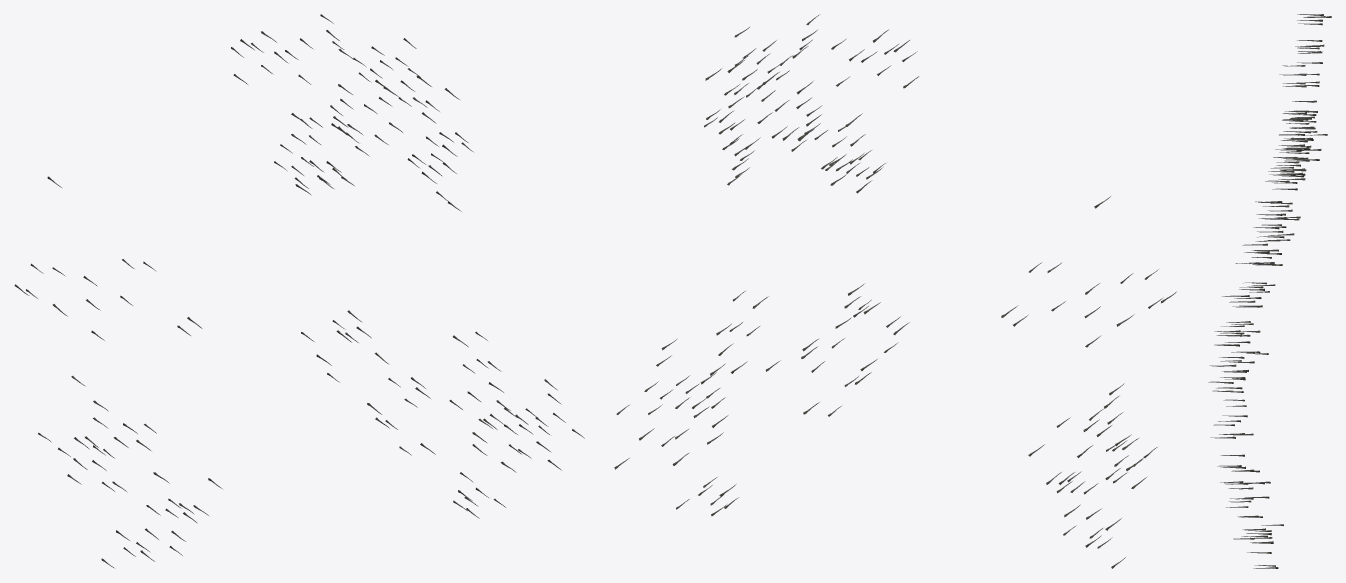
3 views of the same model, side by side, from view 1: azimuth 30°, elevation 25°; view 2: azimuth 150°, elevation 25°; view 3: azimuth 270°, elevation 25° (orthographic). The views are drawn at different scales.
Bounding box in the file's own units: 294 × 266 × 66.14.
Materials: 1 (1 with a texture image).
